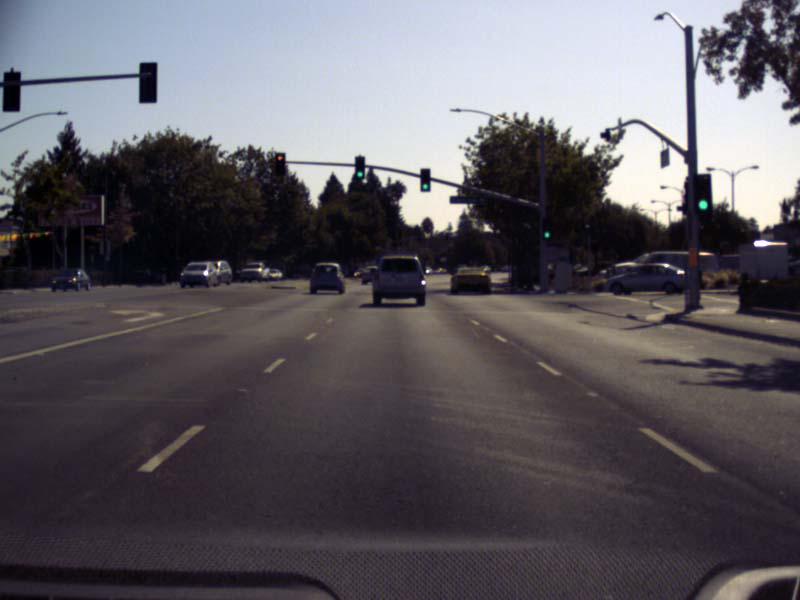Green: (693, 173, 710, 212), (420, 168, 430, 192), (542, 217, 551, 240), (355, 157, 364, 179)
Red: (275, 153, 284, 175)
